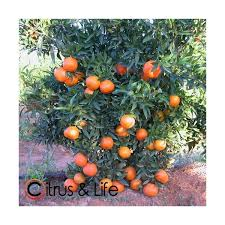orange: (52, 67, 69, 85), (100, 79, 116, 95), (84, 75, 102, 88)
